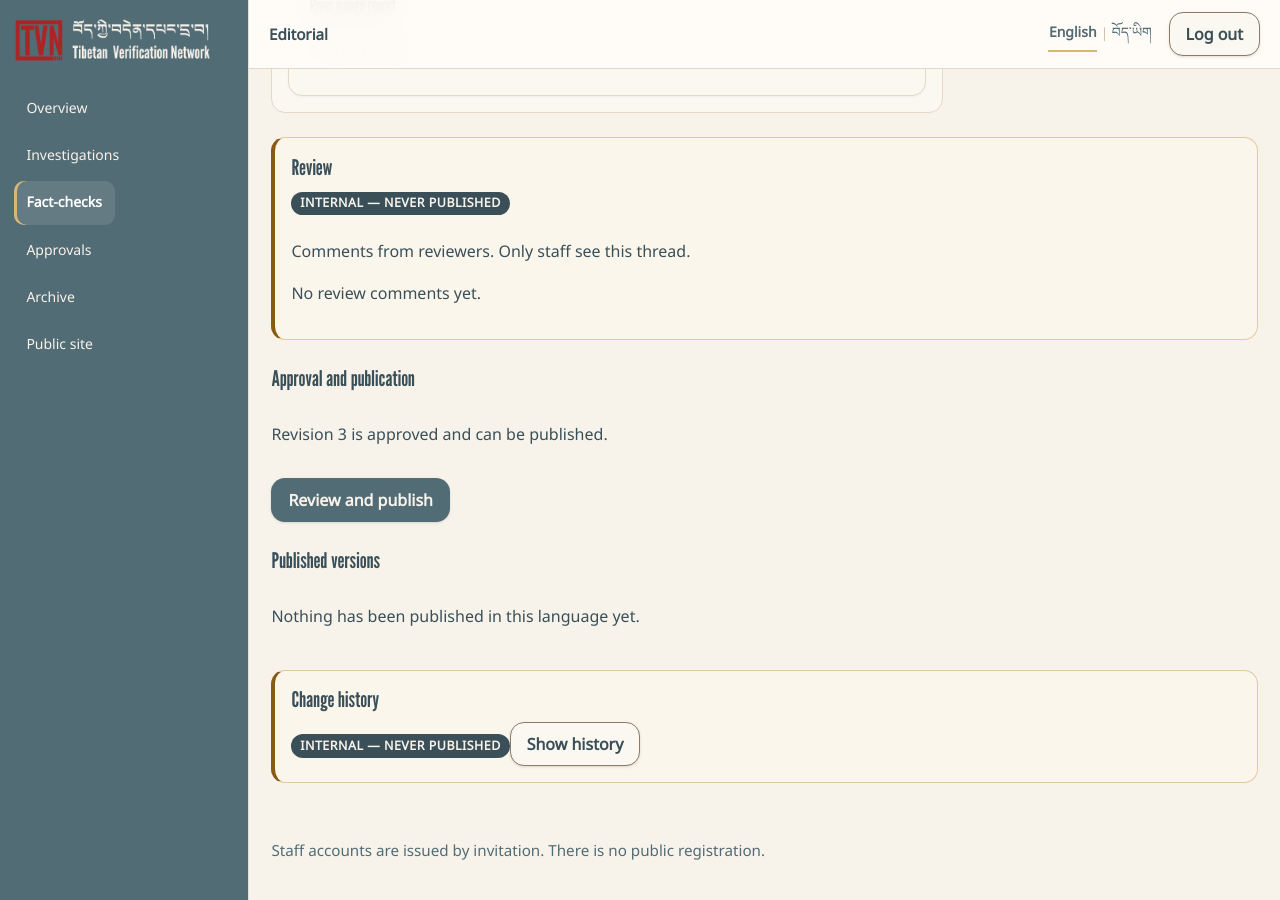
Test: publish › blocks publishing while the preview reports readiness issues
(page scrolled)
Step 1. Click the button "Review and publish" → [361, 500], box [271,478,450,522]
(page scrolled)
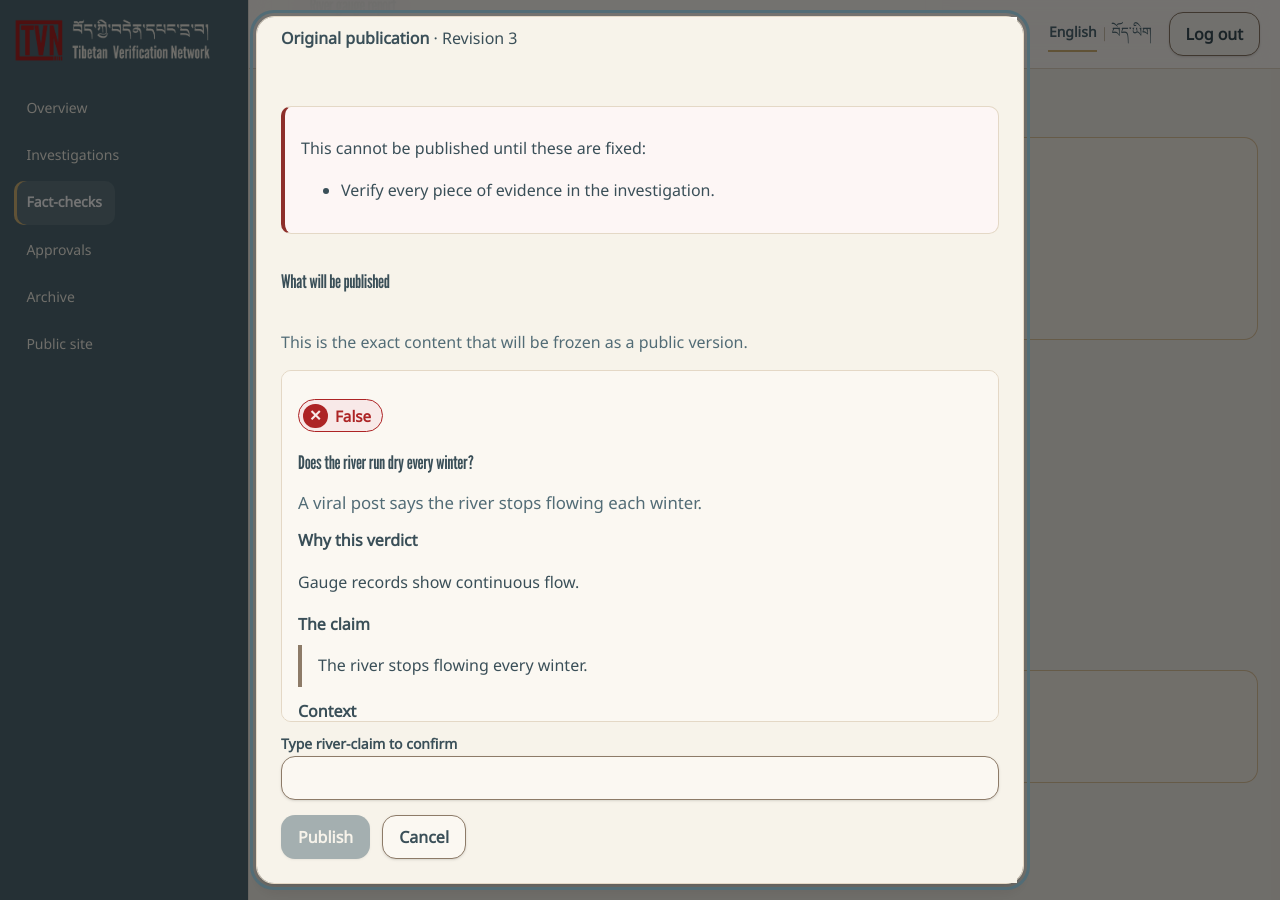
Expected: the list item "Verify every piece of evidence in the investigation." is shown, [341,179,715,201]
Expected: the button "Publish" is disabled, [281,815,370,859]
